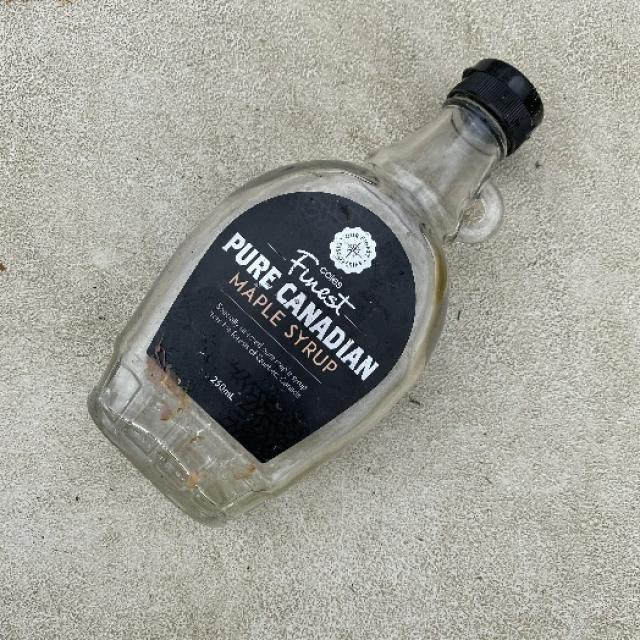kaca: (154, 60, 550, 488), (90, 344, 268, 521), (382, 153, 459, 249), (128, 389, 184, 446)
